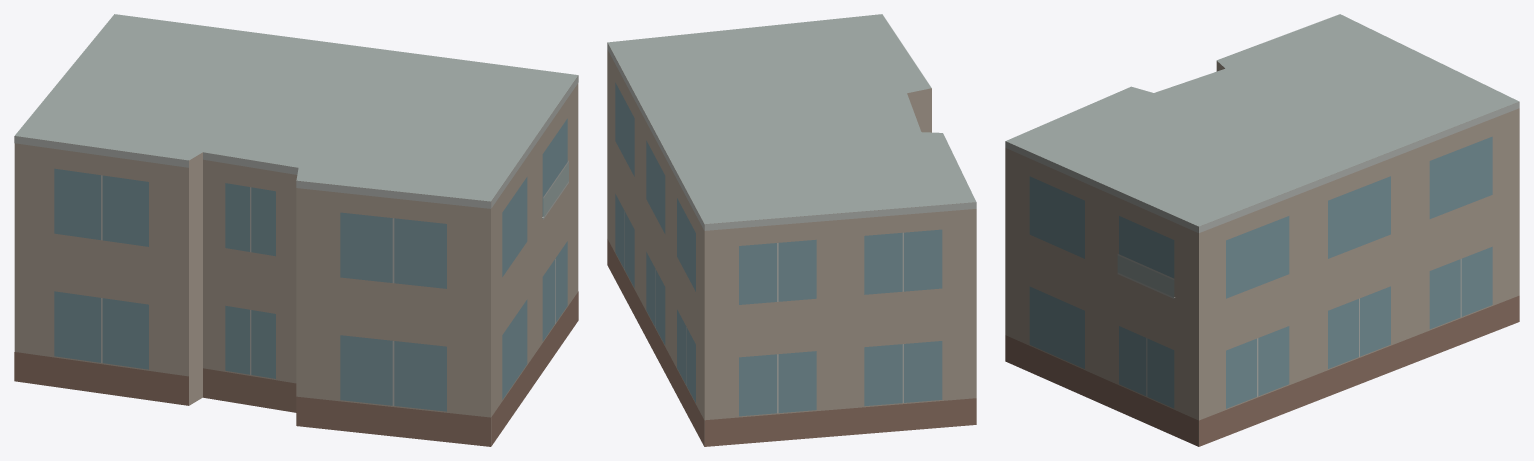
Rendered from survey-upis-32619258.glb.
The picture shows the model from 3 angles, left to right: view 1: azimuth 30°, elevation 25°; view 2: azimuth 150°, elevation 25°; view 3: azimuth 270°, elevation 25°; orthographic projection. The views are drawn at different scales.
Visible parts, largest first — view 1: survey-upis-32619258.tmp; view 2: survey-upis-32619258.tmp; view 3: survey-upis-32619258.tmp.
Boxes of the visible parts, <box> form: survey-upis-32619258.tmp: <box>14,14,578,446</box>; survey-upis-32619258.tmp: <box>607,14,976,446</box>; survey-upis-32619258.tmp: <box>1005,14,1519,446</box>.
Size of the model in its own units: 16.78 by 8.1 by 17.14.
